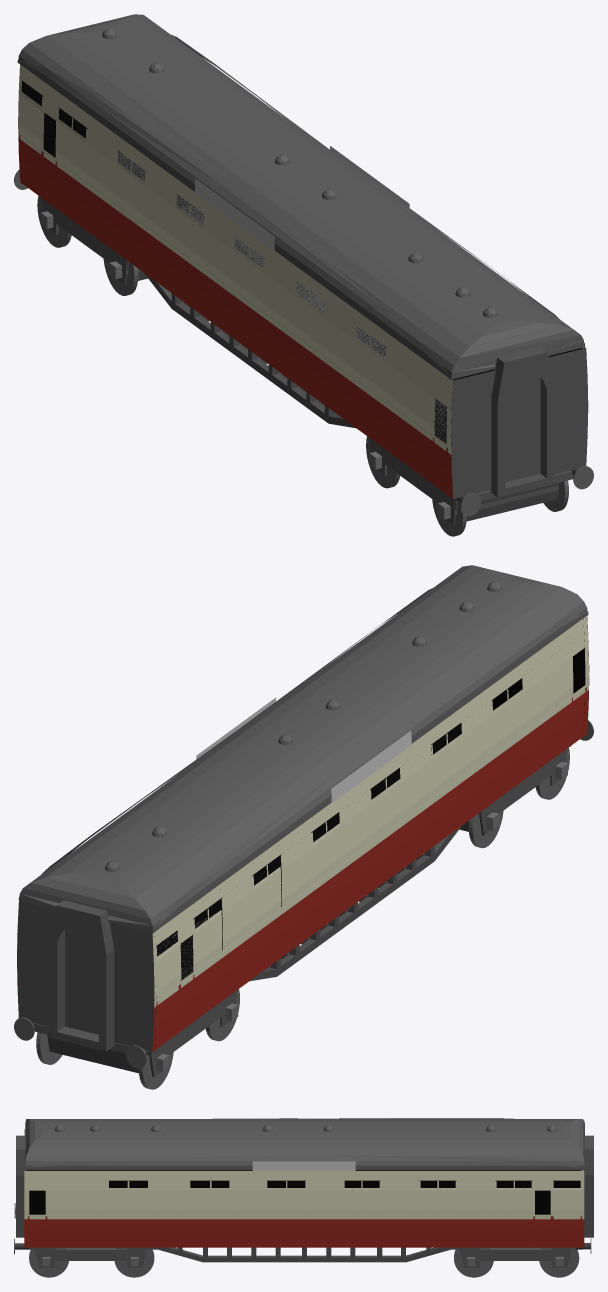
File: lner-gresley-express-parcel-brake-cc.dae
3 renders of one model, top to bottom at view 1: azimuth 30°, elevation 25°; view 2: azimuth 150°, elevation 25°; view 3: azimuth 270°, elevation 25°, orthographic. The views are drawn at different scales.
Visible parts, largest first — view 1: Suzanne_001, Plane_358, Plane_070_001, Tube_002, Plane_326, Suzanne_004, Plane_359, Plane_357, Plane_002, Plane_332, Cube_070, Cube_072 (+21 smaller); view 2: Suzanne_001, Plane_358, Plane_001_001, Tube_004, Plane_326, Suzanne_004, Plane_359, Plane_357, Plane_012, Plane_332, Cube_060, Plane_281 (+20 smaller); view 3: Suzanne_001, Plane_007, Plane_019, Plane_361, Suzanne_003, Plane_006, Plane_005, Plane_158, Plane_239, Plane_242, Plane_079, Plane_078 (+33 smaller).
Part boxes in pixels (left/top/right/bottom): Suzanne_001: left=18, top=14, right=584, bottom=379; Plane_358: left=18, top=138, right=452, bottom=498; Plane_070_001: left=451, top=348, right=588, bottom=498; Tube_002: left=490, top=346, right=554, bottom=497; Plane_326: left=175, top=205, right=385, bottom=398; Suzanne_004: left=17, top=59, right=450, bottom=379; Plane_359: left=19, top=71, right=452, bottom=394; Plane_357: left=18, top=131, right=451, bottom=454; Plane_002: left=117, top=152, right=452, bottom=493; Plane_332: left=178, top=181, right=432, bottom=372; Cube_070: left=446, top=470, right=573, bottom=524; Cube_072: left=385, top=449, right=558, bottom=515; Suzanne_001: left=19, top=565, right=587, bottom=932; Plane_358: left=152, top=690, right=588, bottom=1051; Plane_001_001: left=17, top=900, right=154, bottom=1051; Tube_004: left=49, top=900, right=114, bottom=1051; Plane_326: left=313, top=689, right=523, bottom=883; Suzanne_004: left=153, top=611, right=588, bottom=932; Plane_359: left=153, top=622, right=587, bottom=947; Plane_357: left=154, top=682, right=588, bottom=1007; Plane_012: left=156, top=707, right=496, bottom=980; Plane_332: left=312, top=631, right=566, bottom=823; Cube_060: left=34, top=1023, right=165, bottom=1076; Plane_281: left=281, top=833, right=311, bottom=904; Suzanne_001: left=25, top=1119, right=584, bottom=1170; Plane_007: left=24, top=1219, right=584, bottom=1247; Plane_019: left=26, top=1170, right=581, bottom=1214; Plane_361: left=109, top=1188, right=305, bottom=1214; Suzanne_003: left=25, top=1150, right=584, bottom=1170; Plane_006: left=24, top=1176, right=584, bottom=1180; Plane_005: left=24, top=1214, right=584, bottom=1219; Plane_158: left=51, top=1171, right=378, bottom=1175; Plane_239: left=381, top=1180, right=418, bottom=1214; Plane_242: left=457, top=1180, right=494, bottom=1214; Plane_079: left=28, top=1215, right=581, bottom=1216; Plane_078: left=29, top=1243, right=580, bottom=1244.
Bounding box in the file's own units: 1.96 × 10.97 × 2.82.
